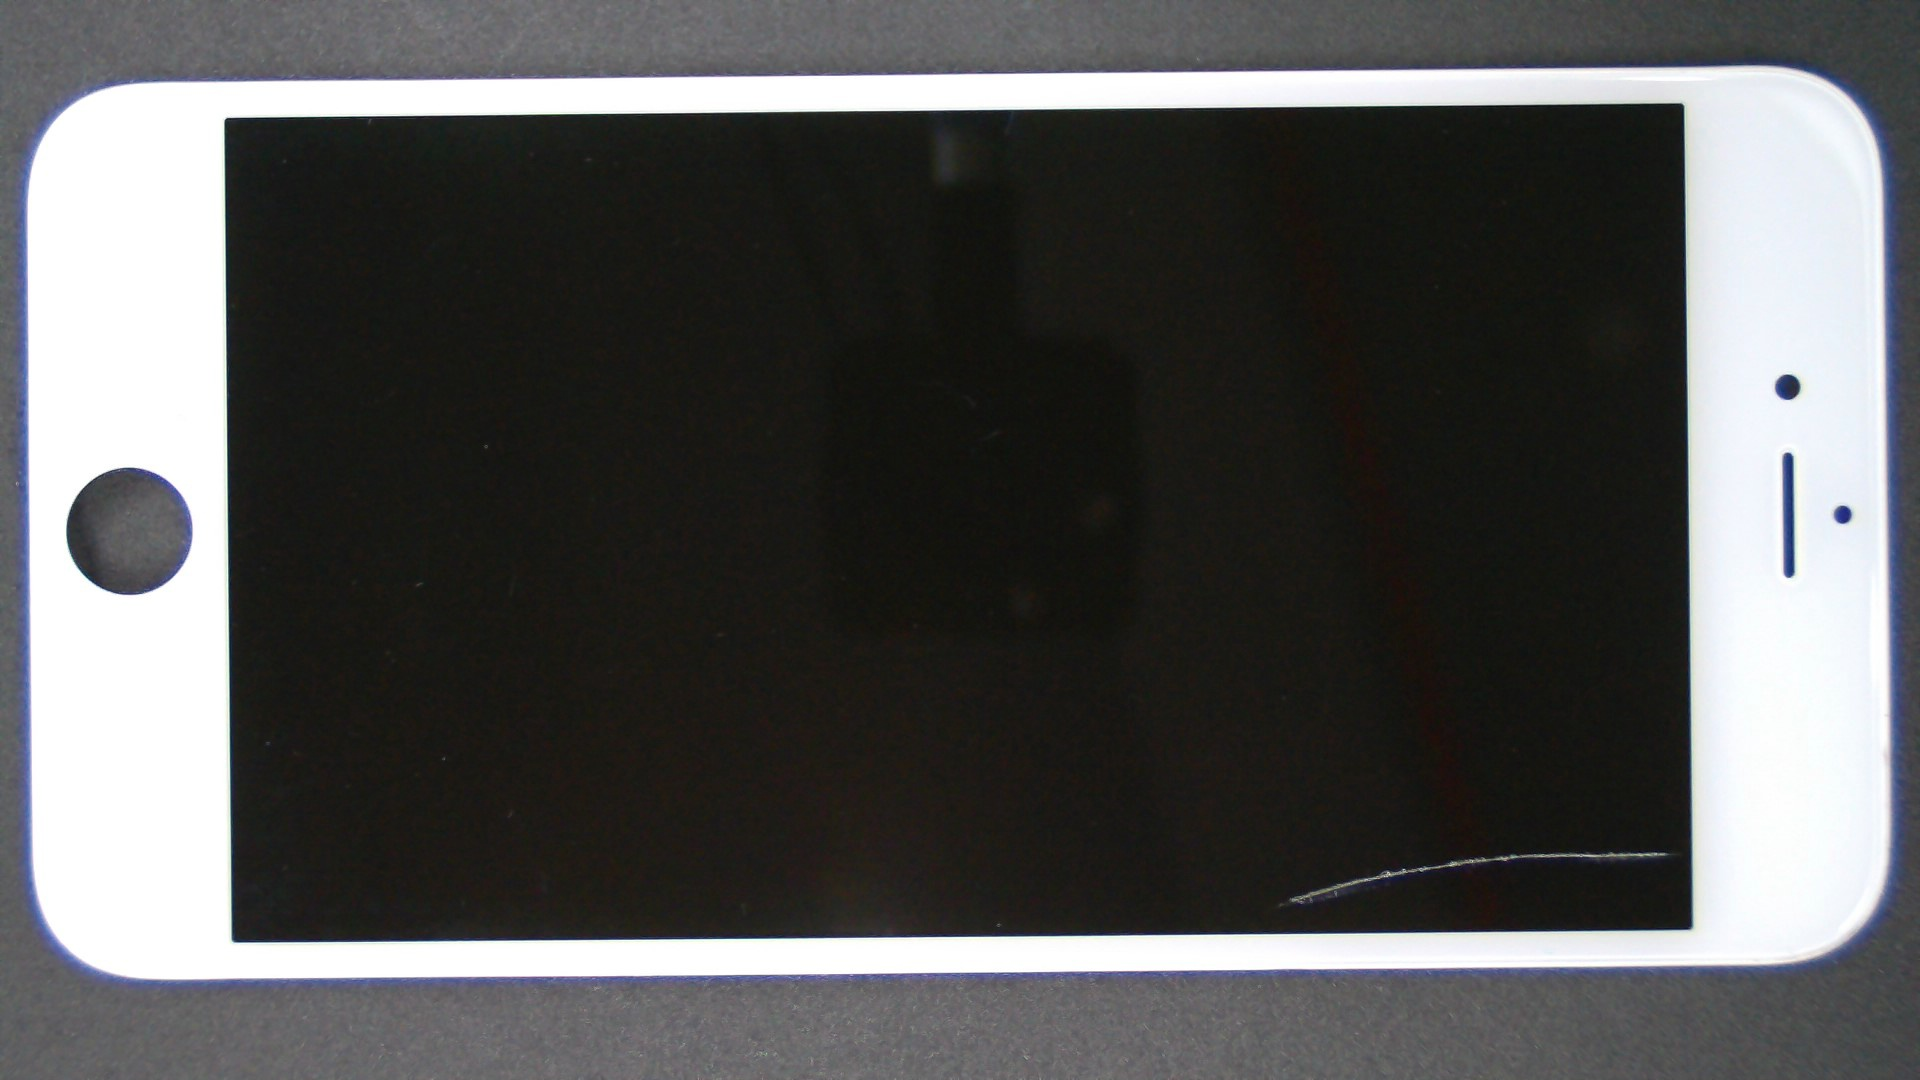oil: (829, 425, 1920, 1080)
